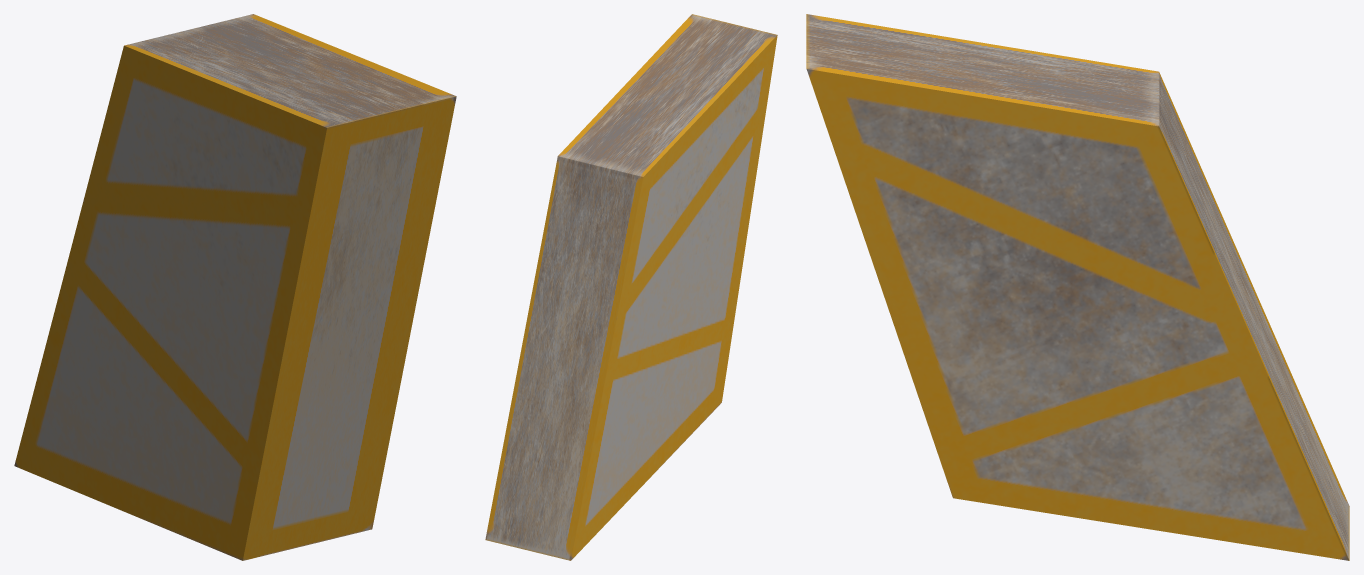
Rendered from CevreKucukCevre.fbx.
The picture shows the model from 3 angles, left to right: view 1: azimuth 30°, elevation 25°; view 2: azimuth 150°, elevation 25°; view 3: azimuth 270°, elevation 25°; orthographic projection. The views are drawn at different scales.
Visible parts, largest first — view 1: Cube.001; view 2: Cube.001; view 3: Cube.001.
Part boxes in pixels (left/top/right/bottom): Cube.001: left=14, top=14, right=456, bottom=560; Cube.001: left=485, top=14, right=777, bottom=560; Cube.001: left=806, top=14, right=1349, bottom=560.
Bounding box in the file's own units: 16.31 × 68.25 × 68.25.
